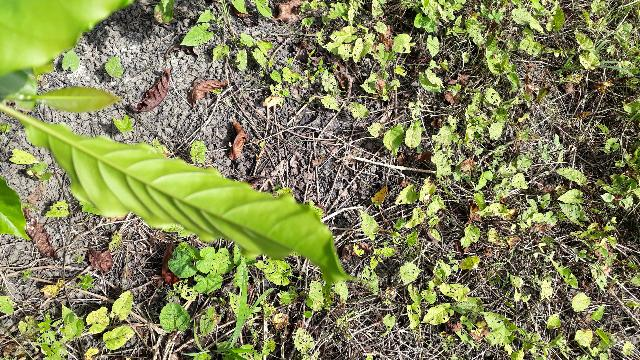healthy: (289, 80, 618, 241)
